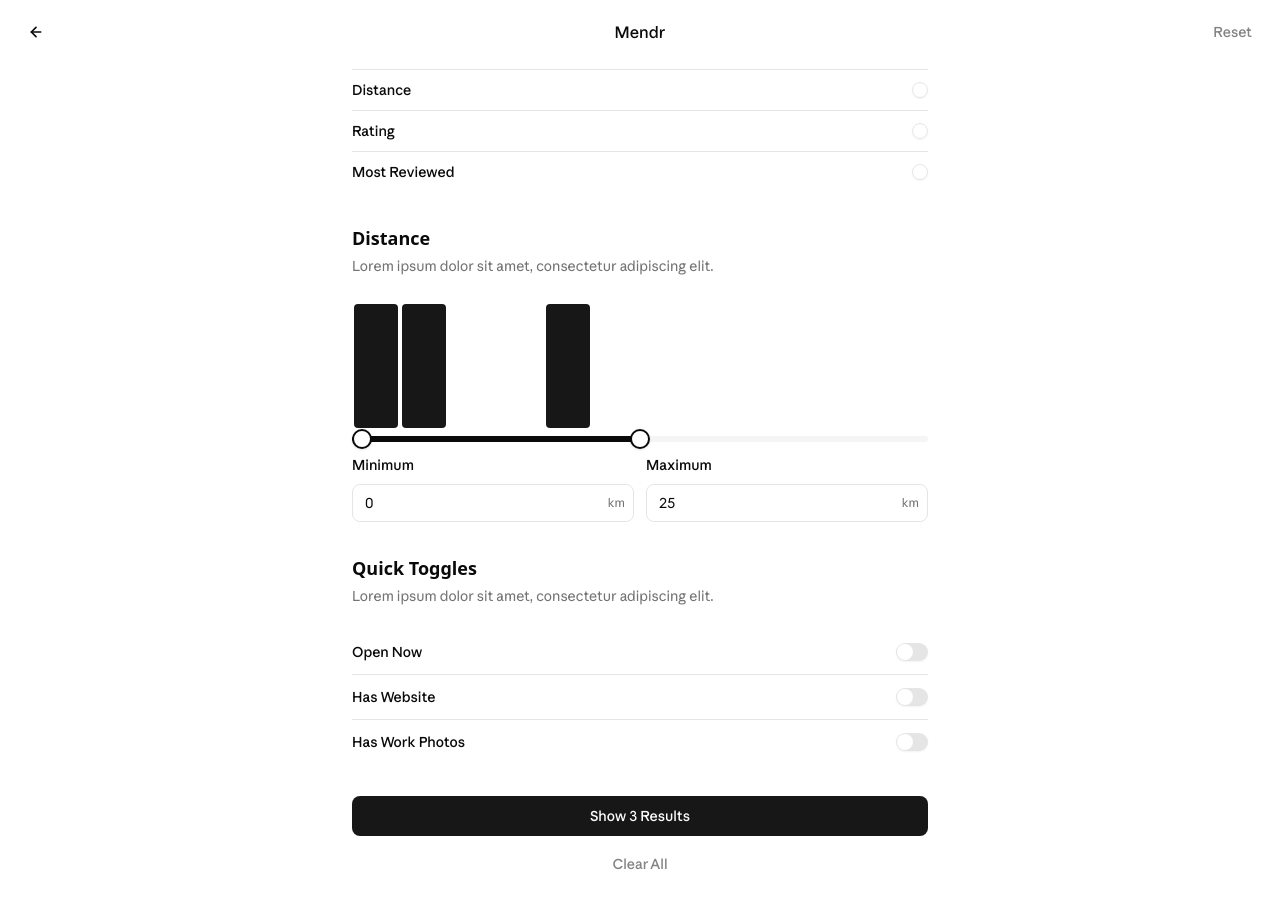
Test: FilterSheet › updates the live "Show N results" count as the draft narrows
(page scrolled)
Toggle "Open Now" — only the two open providers (p1 + p3) remain.
Click the switch in the row of "Open Now" at (912,652), box [896, 643, 928, 661]
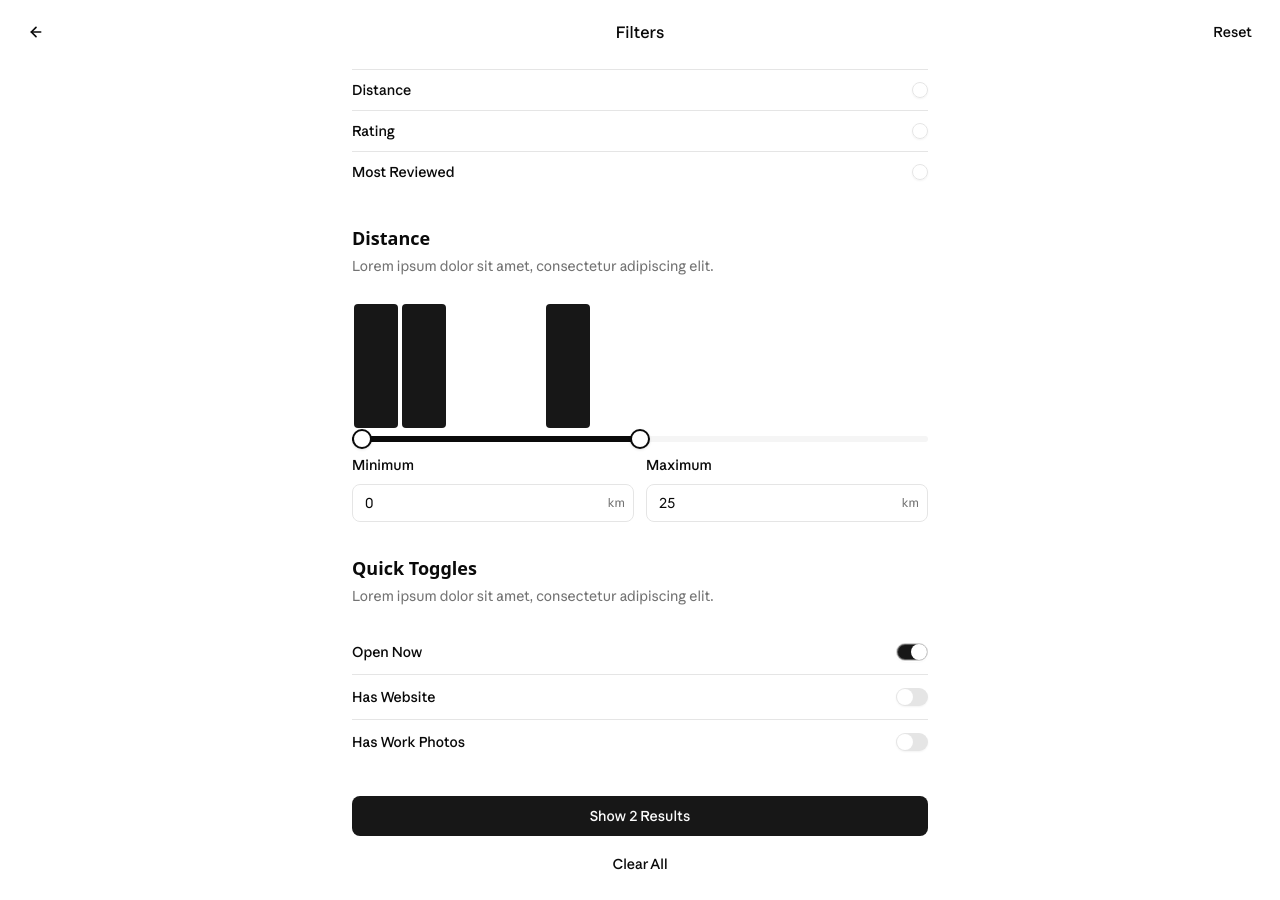
Result: the button "Show 2 Results" is shown at [352, 796, 928, 836]
